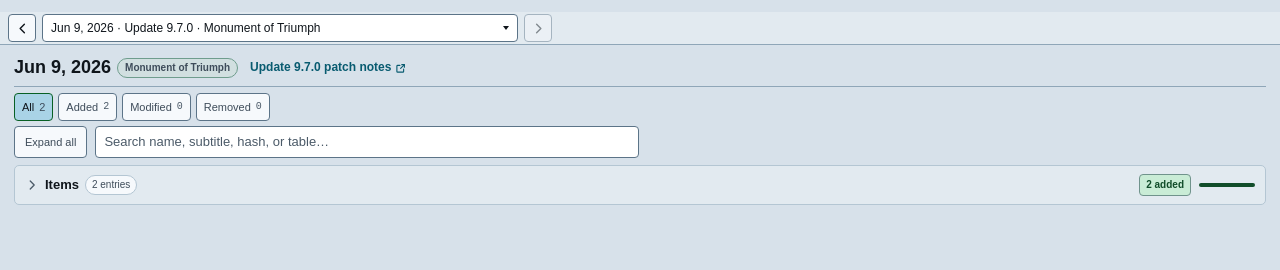
Test case: ManifestHistoryPage workspace › shows patch and release context in the picker and links the official patch notes
Expected: the link to "https://www.bungie.net/7/en/News/Article/destiny_update_9_7_0" reads "Update 9.7.0 patch notes", top-left (250, 59), bottom-right (408, 76)
Click the dropdown labelled "Jun 9, 2026 · Update 9.7.0 · Monument of Triumph" at [280, 28], box top-left (42, 14), bottom-right (518, 42)
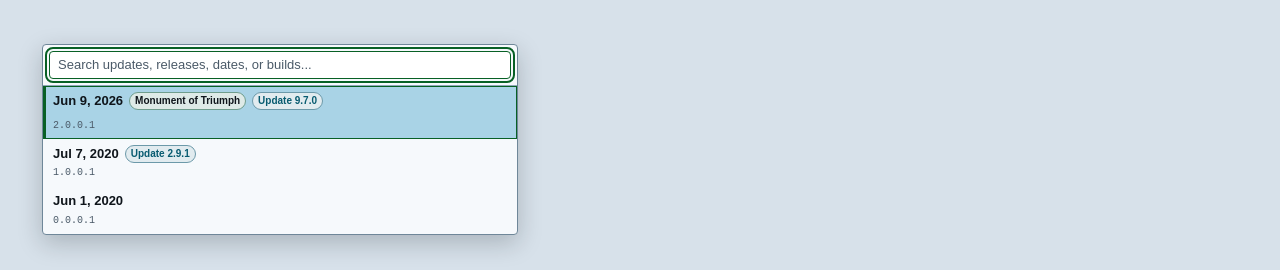
Now the option "Jun 9, 2026 Monument of Triumph Update 9.7.0 2.0.0.1" is shown, box top-left (43, 86), bottom-right (517, 139)
